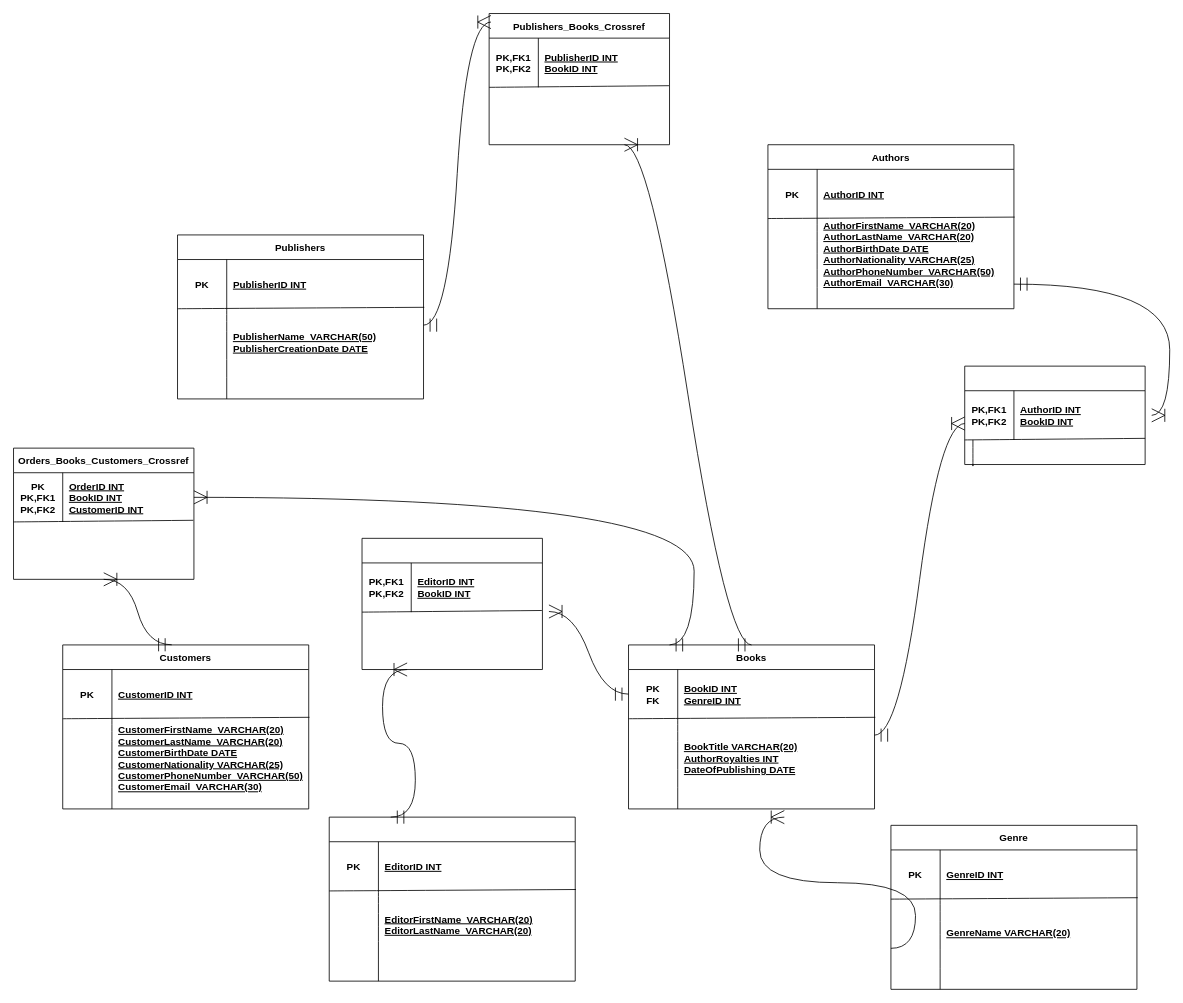
Some shapes in this 1183 by 1003 pixel diagram are drawn without their labels. The box of each missing label's shape, as (x1, y1, x2, y2) in pixels:
Authors_Books_Crossref: (964, 365, 1145, 465)
Editors: (328, 816, 575, 981)
Editors_Books_Crossref: (361, 538, 542, 670)
